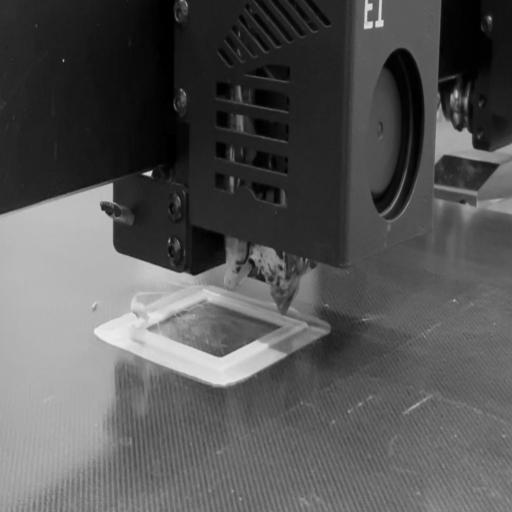spaghetti_and_stringing: (116, 281, 222, 352)
